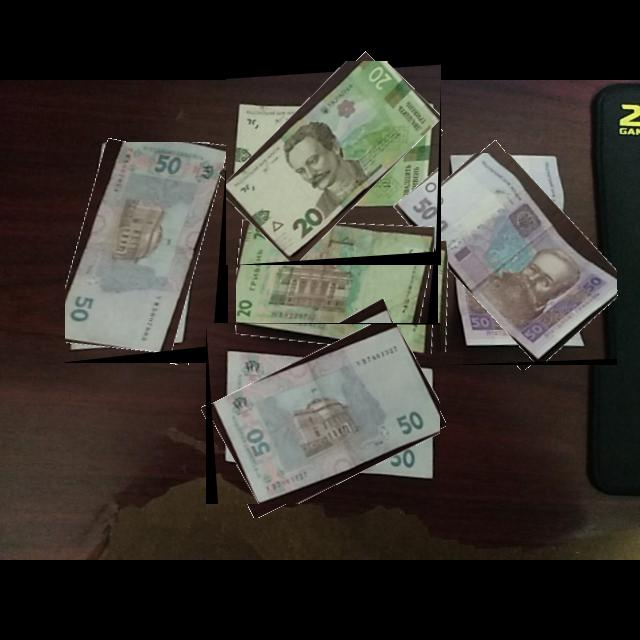20uah: (226, 61, 441, 263), (236, 223, 438, 340)
50uah: (406, 153, 618, 363), (211, 325, 441, 505), (65, 142, 228, 355)
